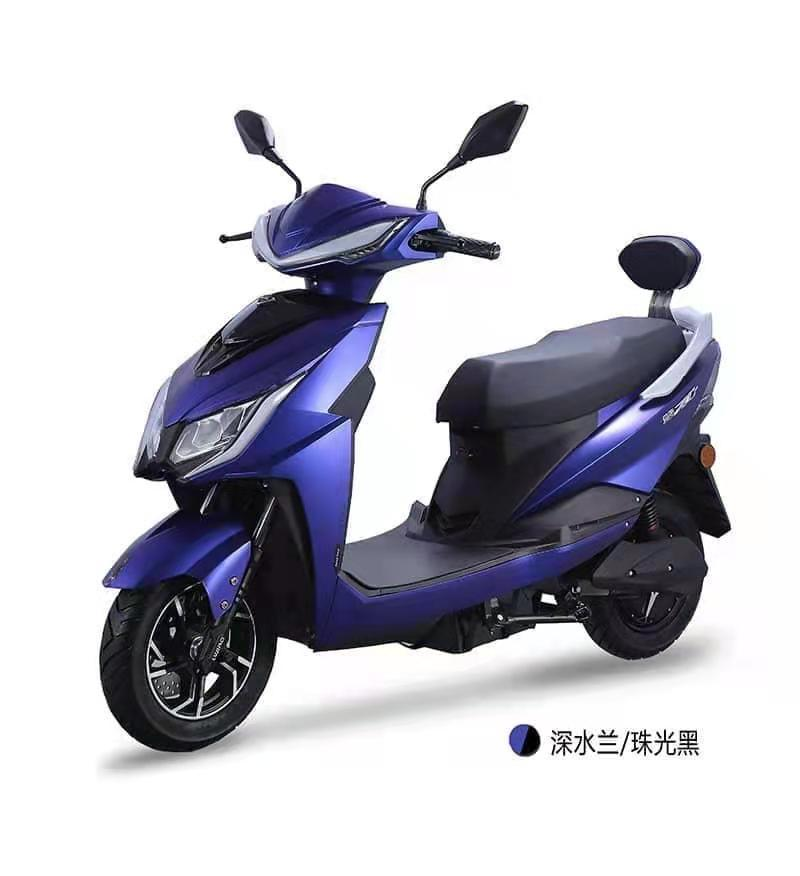motorbike: (96, 97, 735, 755)
